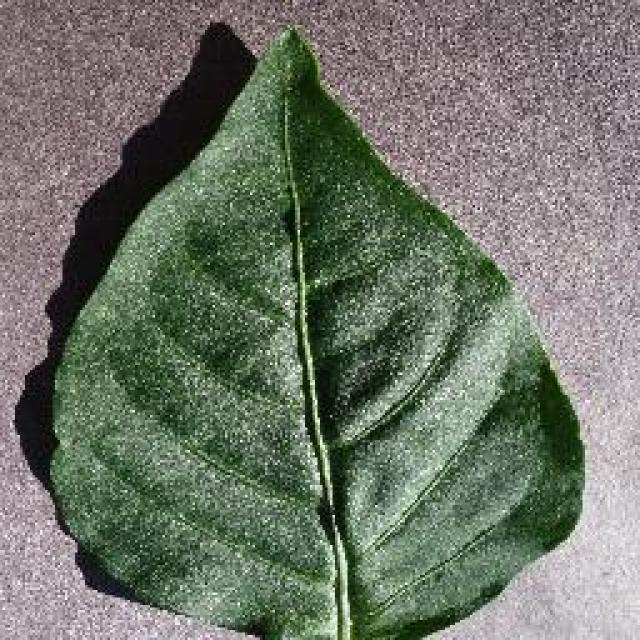Chilli_Healthy: (42, 22, 588, 638)
